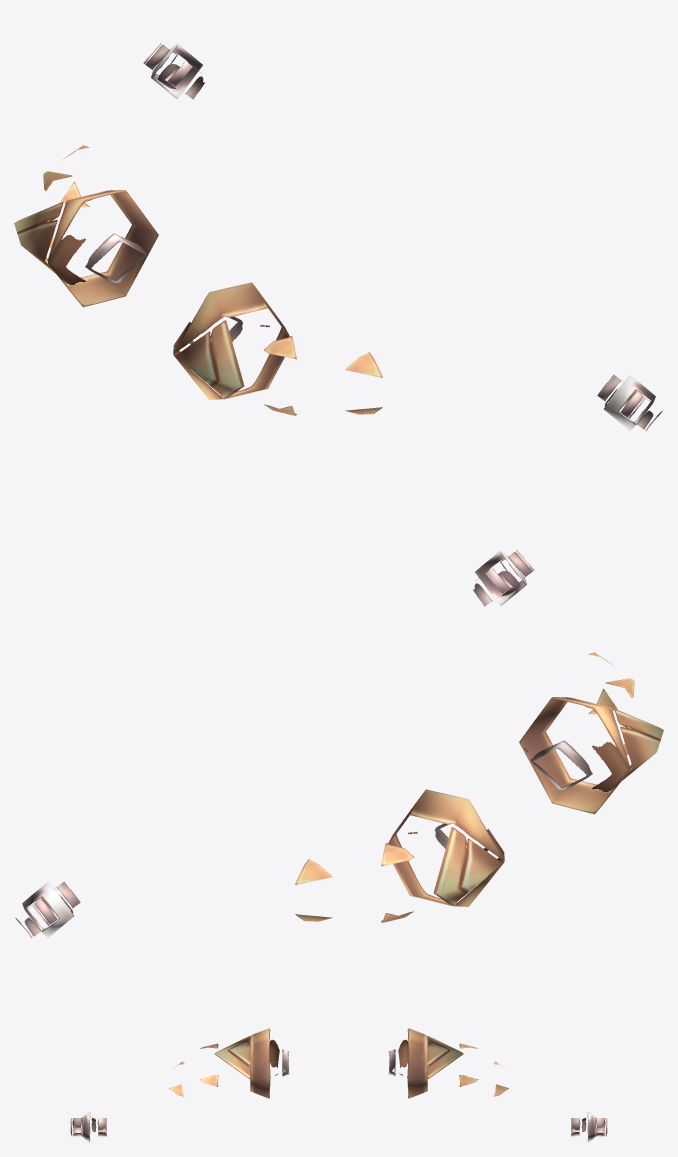
Rendered from eqp_wpn_archer_2.FBX.
3 views of the same model, one above another, from view 1: azimuth 30°, elevation 25°; view 2: azimuth 150°, elevation 25°; view 3: azimuth 270°, elevation 25° (orthographic). The views are drawn at different scales.
Parts seen in each view (by area): view 1: eqp_wpn_archer_2; view 2: eqp_wpn_archer_2; view 3: eqp_wpn_archer_2.
Boxes of the visible parts, x1,y1,x2,y2 form: eqp_wpn_archer_2: (14, 43, 662, 430); eqp_wpn_archer_2: (15, 550, 663, 937); eqp_wpn_archer_2: (70, 1028, 607, 1142).
Bounding box in the file's own units: 0.3254 × 0.1043 × 1.03.
